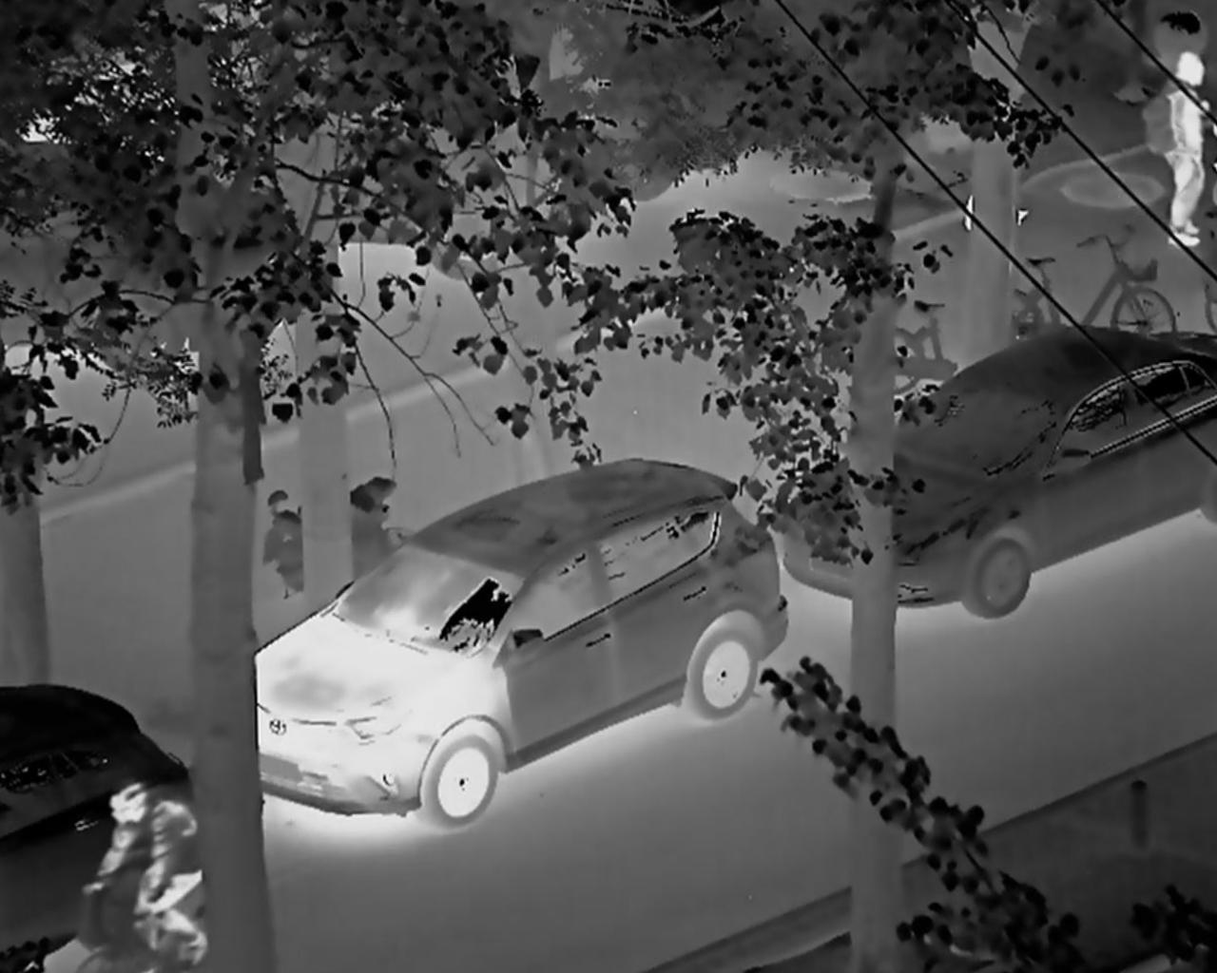person: (68, 773, 223, 973), (1122, 31, 1215, 263)
